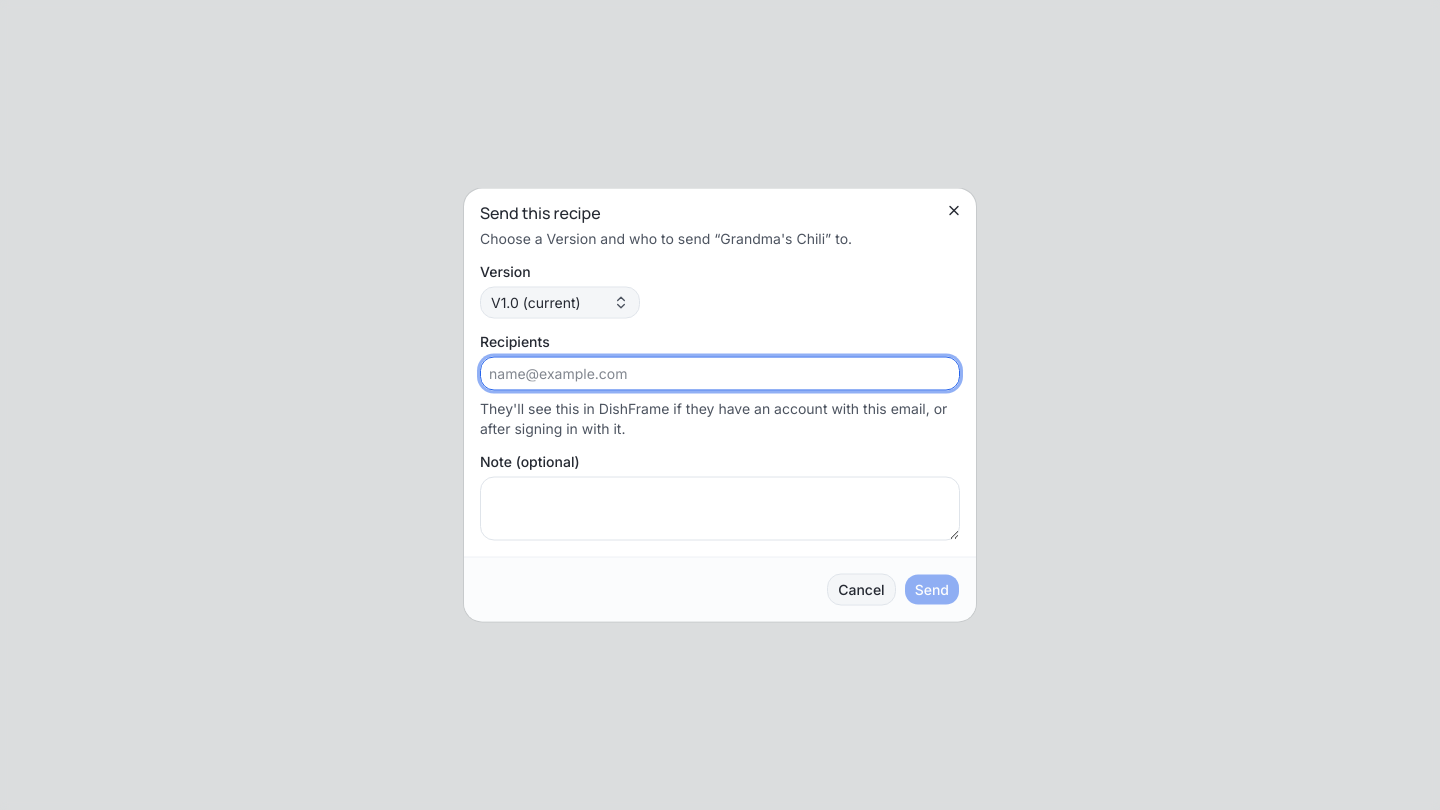
DirectShareSingleItemDialog › on a per-recipient failure, keeps only the failed recipient so it can be retried
Type "ok@example.invalid,bad@example.invalid," into the field labelled "Recipients". click: (720, 374)
box: [489,364,951,384]
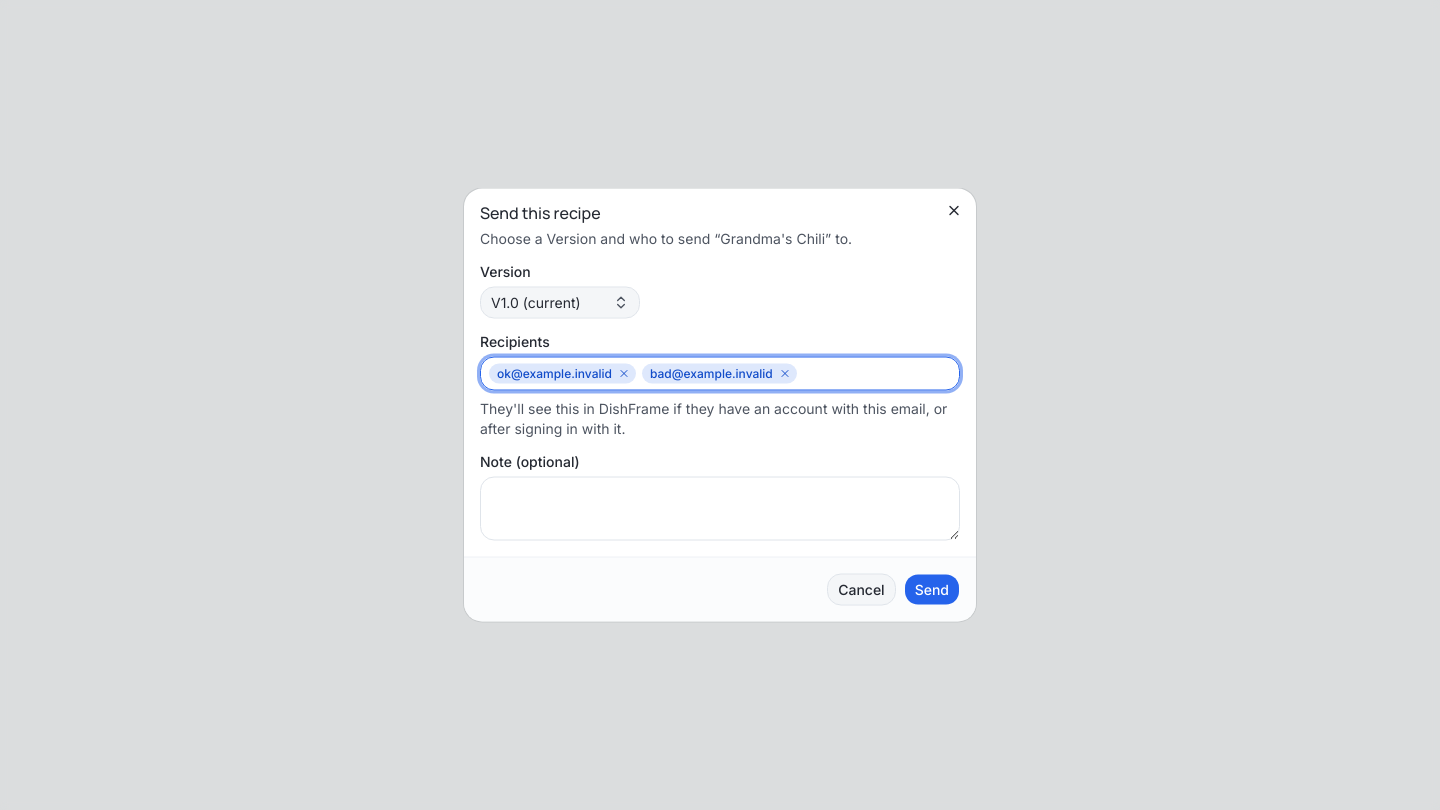
Click the button "Send". click: (932, 590)
box: [904,574,960,606]
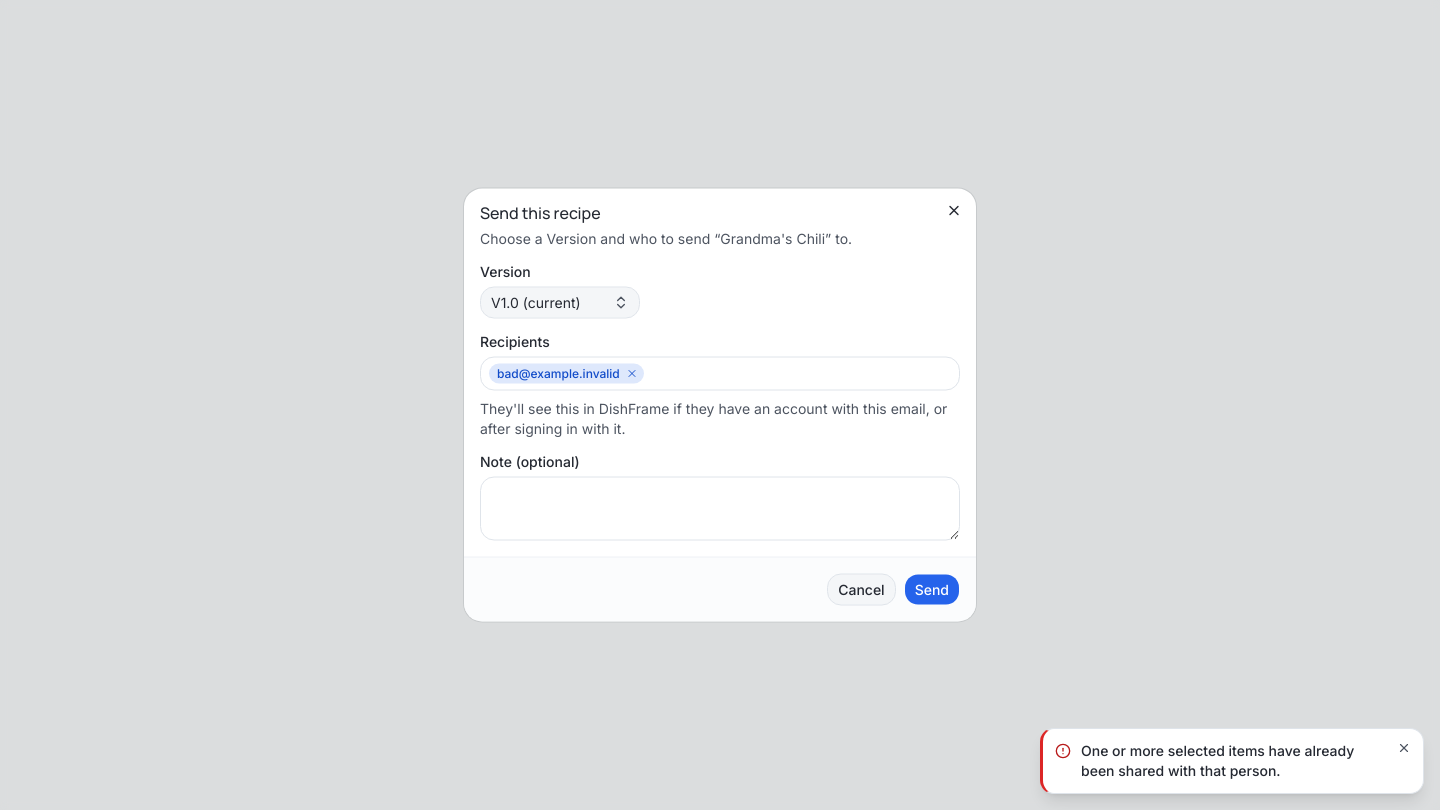
Expected: the text "bad@example.invalid" is shown, [489,364,644,384]
Expected: the text "One or more selected items have already been shared with that person." is shown, [1081,741,1387,781]
Expected: the text "ok@example.invalid" is gone
